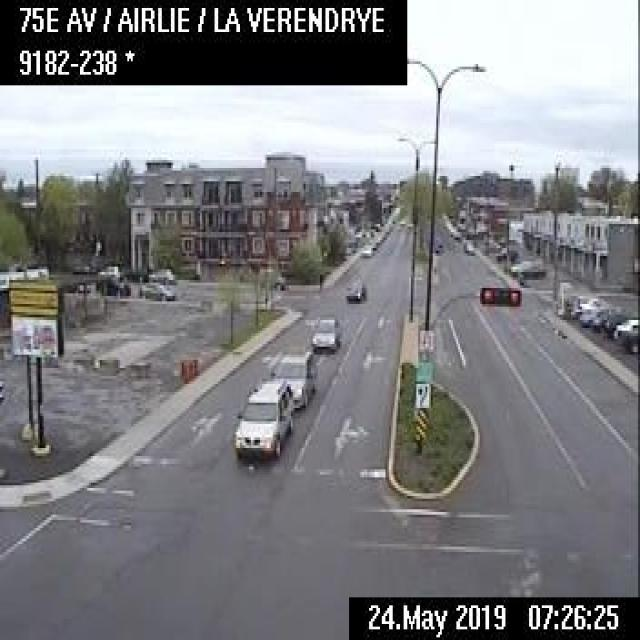construction: (192, 355, 199, 374), (182, 359, 188, 381), (187, 358, 193, 377), (179, 358, 182, 376)
vehicle: (229, 376, 292, 458), (269, 346, 315, 409), (309, 314, 337, 350), (576, 295, 608, 323), (93, 274, 131, 296), (136, 280, 174, 298), (590, 307, 622, 328), (344, 278, 366, 302), (617, 325, 638, 350), (509, 258, 538, 273), (612, 316, 636, 334), (147, 266, 174, 282), (519, 262, 544, 279), (95, 262, 123, 277), (495, 247, 516, 262), (462, 237, 474, 254), (272, 275, 284, 288), (360, 245, 370, 256), (366, 238, 375, 248), (453, 230, 461, 239), (448, 227, 455, 235)
